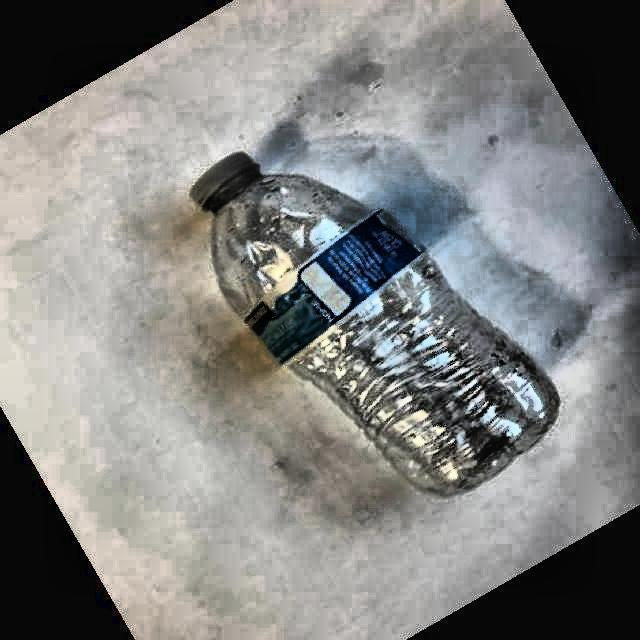plastic: (191, 152, 559, 496)
